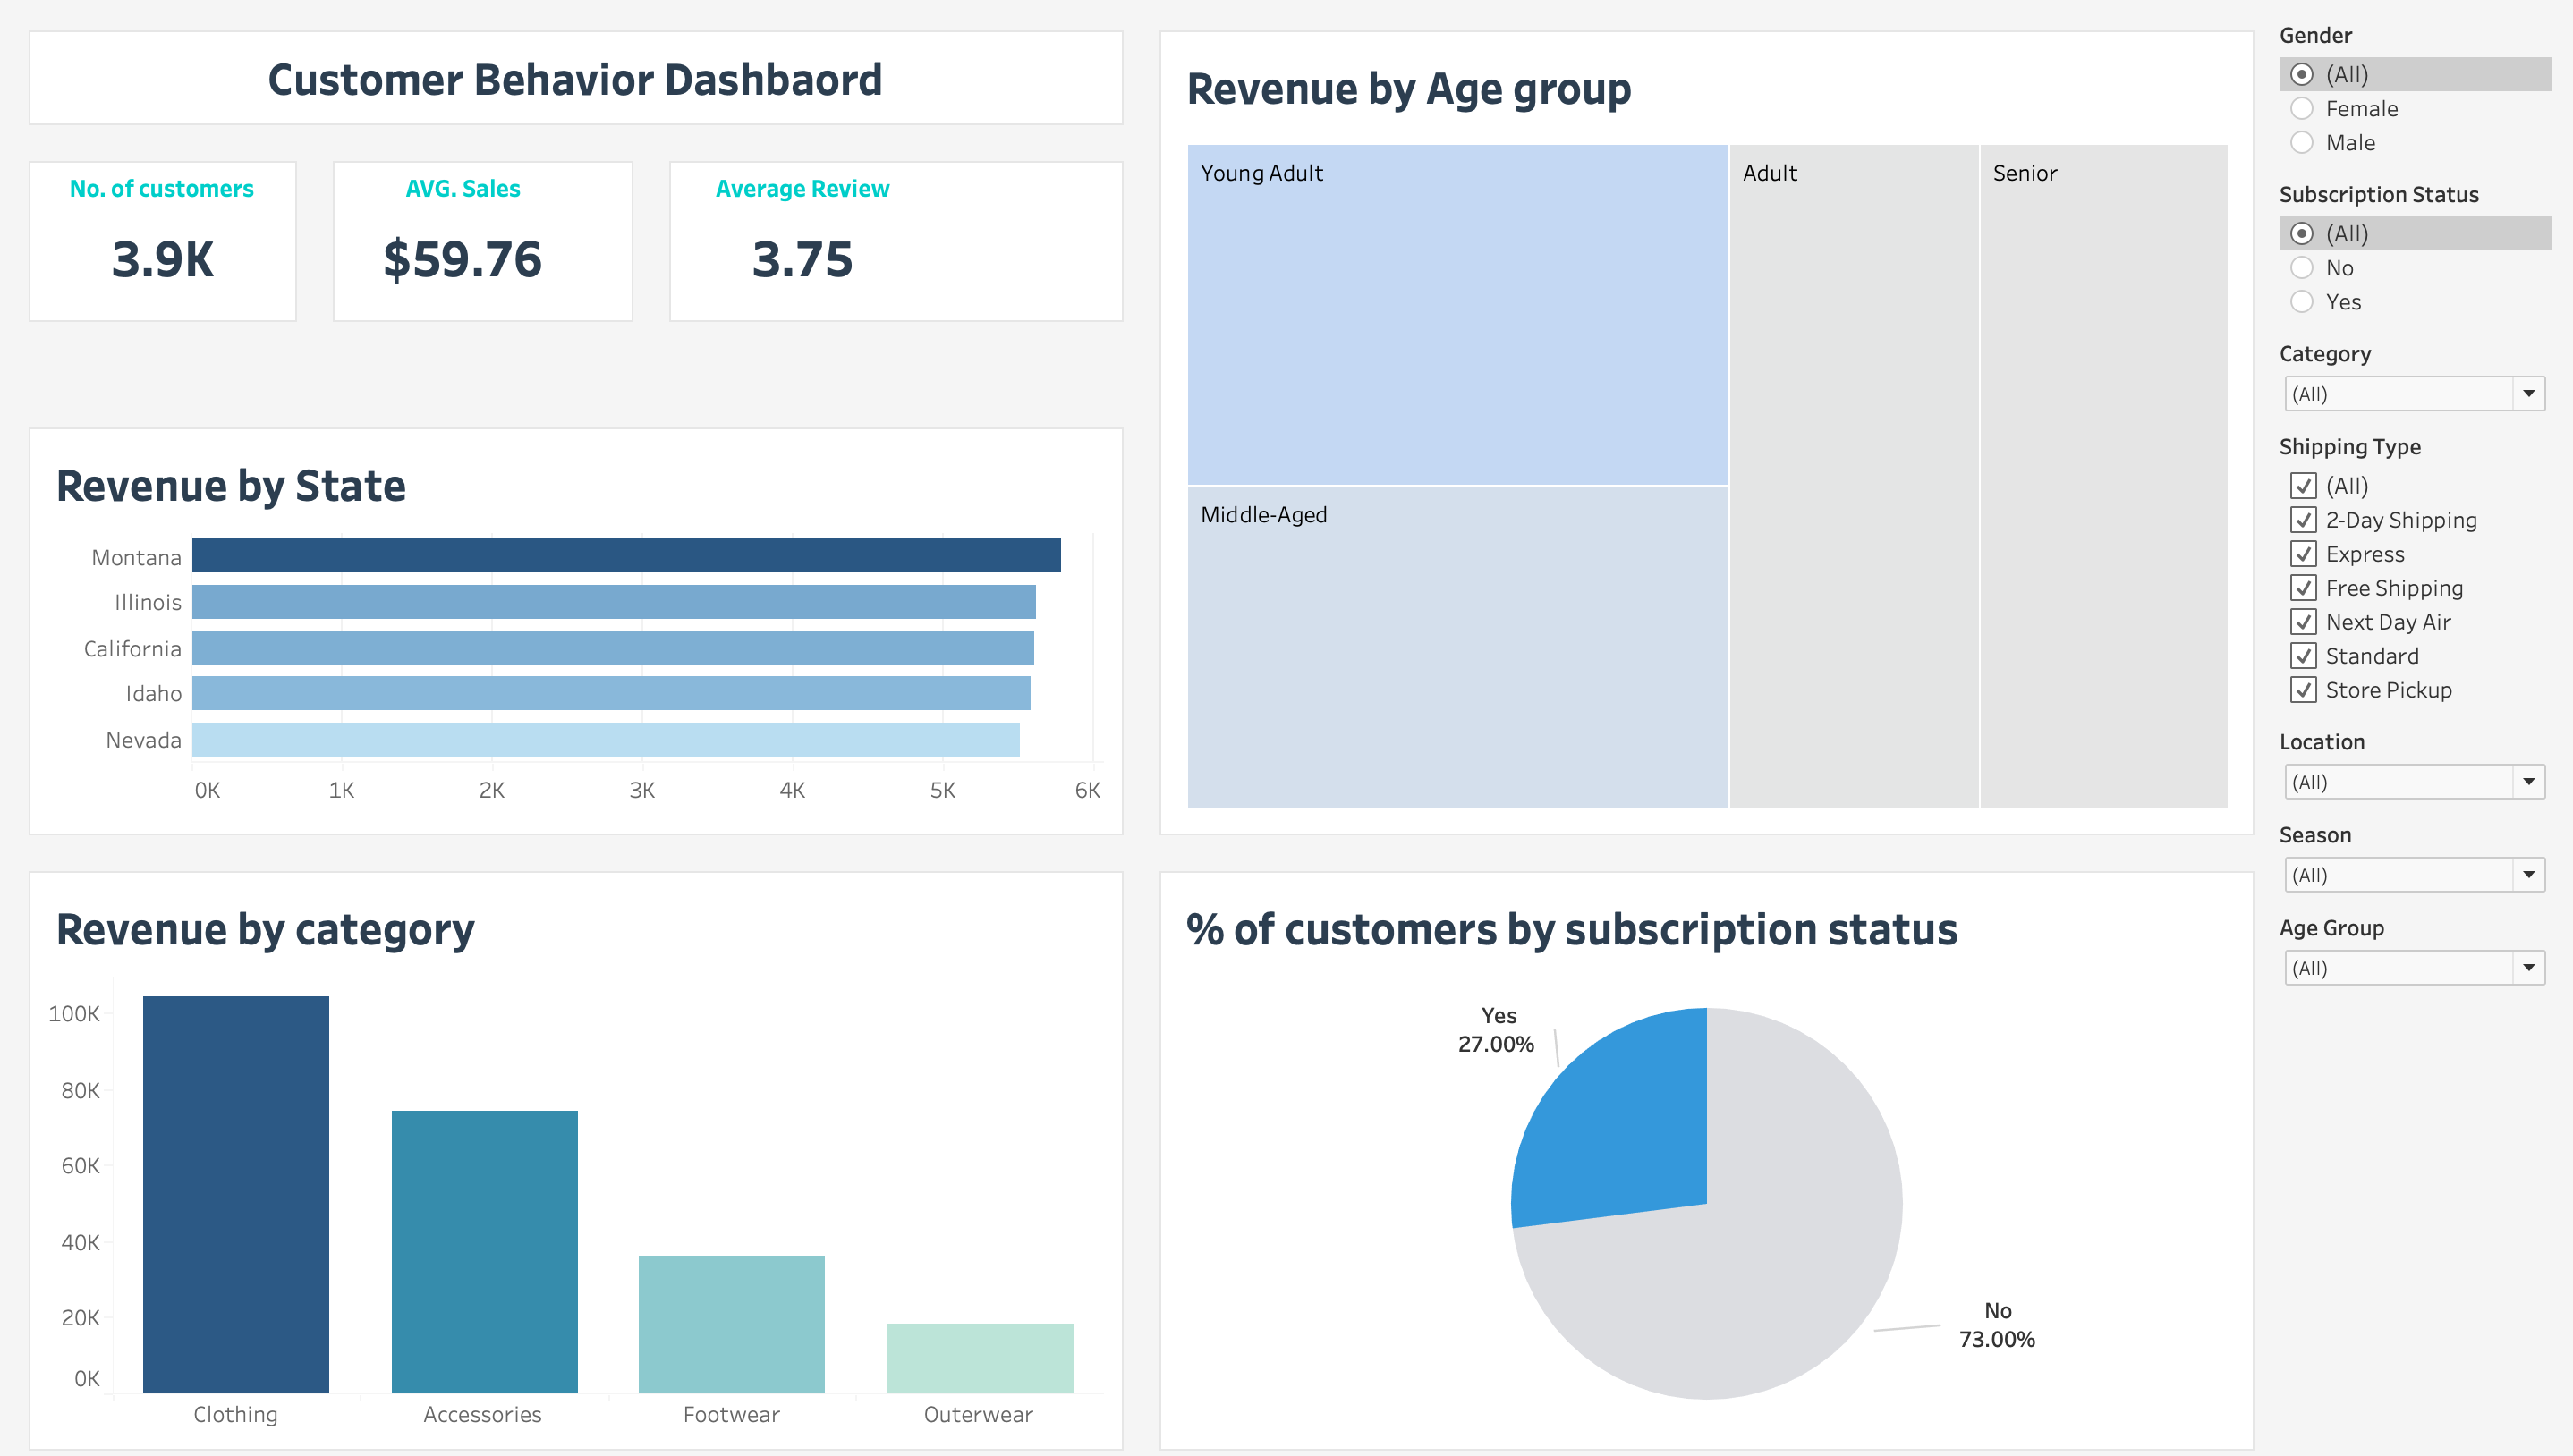

What the dashboard file says about the page in this screenshot:
{"tool":"tableau","page":{"name":"Dashboard 2","canvas":[1000,1000],"units":"permille","ordinal":0},"visuals":[{"type":"text","box":[6.5,12.6,428.4,114.6]},{"type":"worksheet","title":"Revenue by Age group","mark":"Automatic","box":[434.9,12.6,428.4,562.6]},{"type":"filter","title":"No. of customers","param":"[federated.0def6na13epzex1a2ya8x0d6eihe].[none:gender:nk]","box":[863.3,12.6,130.2,139.7]},{"type":"worksheet","title":"No. of customers","mark":"Automatic","box":[6.5,127.2,138.3,150.7]},{"type":"worksheet","title":"AVG. Sales","mark":"Automatic","box":[144.8,127.2,145,150.7]},{"type":"worksheet","title":"Average Review","mark":"Automatic","box":[289.9,127.2,145,150.7]},{"type":"filter","title":"No. of customers","param":"[federated.0def6na13epzex1a2ya8x0d6eihe].[none:subscription_status:nk]","box":[863.3,152.3,130.2,139.7]},{"type":"worksheet","title":"Revenue by State","mark":"Automatic","rows":["location"],"cols":["purchase_amount"],"box":[6.5,277.8,428.4,297.3]},{"type":"filter","title":"AVG. Sales","param":"[federated.0def6na13epzex1a2ya8x0d6eihe].[none:category:nk]","box":[863.3,292,130.2,81.6]},{"type":"filter","title":"AVG. Sales","param":"[federated.0def6na13epzex1a2ya8x0d6eihe].[none:shipping_type:nk]","box":[863.3,373.6,130.2,259]},{"type":"worksheet","title":"Revenue by category","mark":"Automatic","rows":["purchase_amount"],"cols":["category"],"box":[6.5,575.2,428.4,412.3]},{"type":"worksheet","title":"% of customers by subscription status","mark":"Pie","box":[434.9,575.2,428.4,412.3]},{"type":"filter","title":"AVG. Sales","param":"[federated.0def6na13epzex1a2ya8x0d6eihe].[none:location:nk]","box":[863.3,632.7,130.2,81.6]},{"type":"filter","title":"No. of customers","param":"[federated.0def6na13epzex1a2ya8x0d6eihe].[none:season:nk]","box":[863.3,714.3,130.2,81.6]},{"type":"filter","title":"Revenue by Age group","param":"[federated.0def6na13epzex1a2ya8x0d6eihe].[none:age_group:nk]","box":[863.3,795.9,130.2,81.6]}]}

Visuals, with their boxes on the dashboard's canvas, which has no fixed pixel size, in thousandths of its width and height (x1, y1, x2, y2). These are canvas units, not pixel positions in the 2573x1456 screenshot, which may show the page scaled, cropped or inside an application window:
text: BBox(6, 13, 435, 127)
"Revenue by Age group" worksheet: BBox(435, 13, 863, 575)
"No. of customers" filter: BBox(863, 13, 994, 152)
"No. of customers" worksheet: BBox(6, 127, 145, 278)
"AVG. Sales" worksheet: BBox(145, 127, 290, 278)
"Average Review" worksheet: BBox(290, 127, 435, 278)
"No. of customers" filter: BBox(863, 152, 994, 292)
"Revenue by State" worksheet: BBox(6, 278, 435, 575)
"AVG. Sales" filter: BBox(863, 292, 994, 374)
"AVG. Sales" filter: BBox(863, 374, 994, 633)
"Revenue by category" worksheet: BBox(6, 575, 435, 988)
"% of customers by subscription status" worksheet (Pie marks): BBox(435, 575, 863, 988)
"AVG. Sales" filter: BBox(863, 633, 994, 714)
"No. of customers" filter: BBox(863, 714, 994, 796)
"Revenue by Age group" filter: BBox(863, 796, 994, 878)
